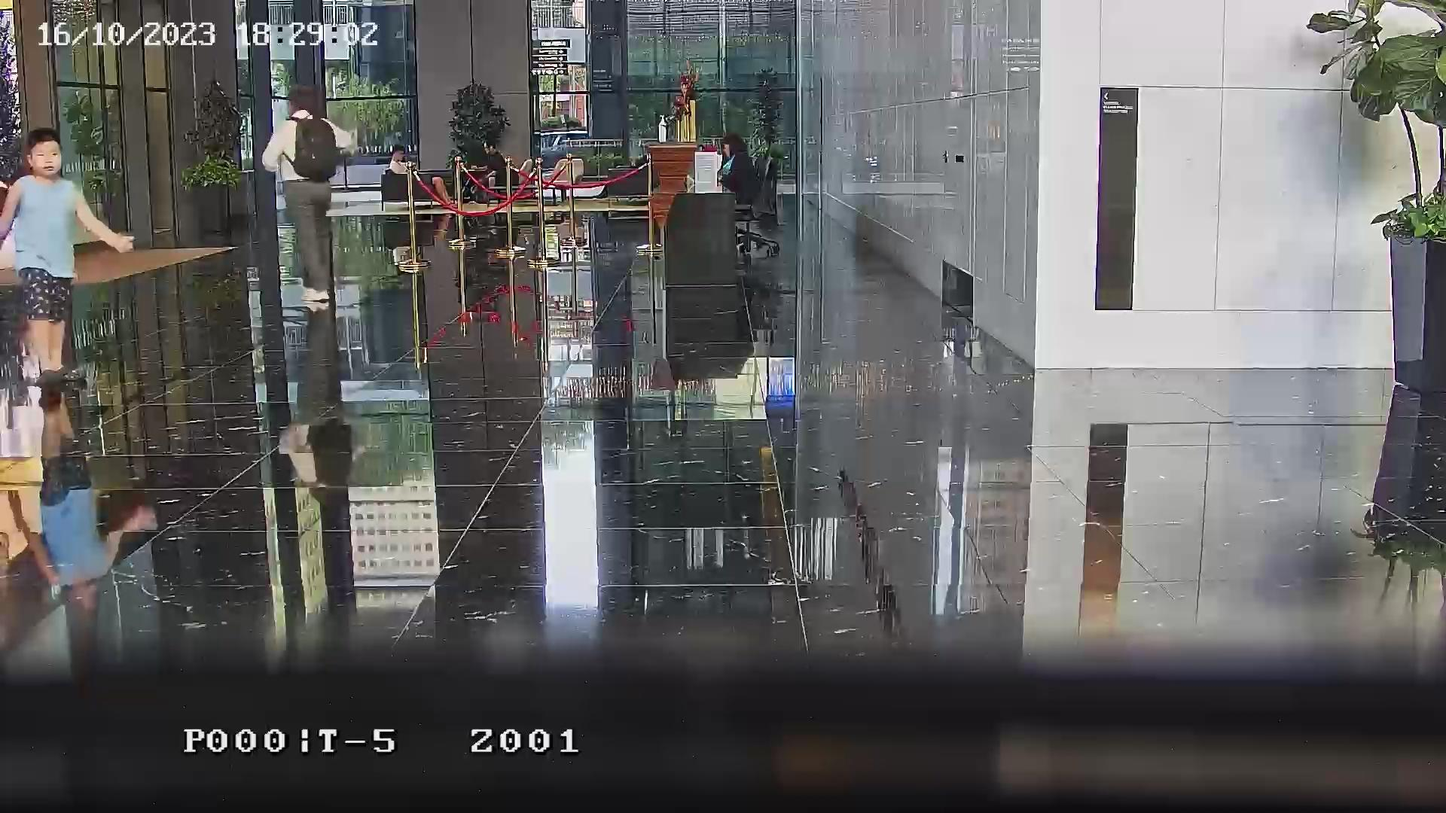person: (0, 129, 136, 463), (261, 84, 348, 301), (390, 144, 457, 209), (717, 133, 759, 207), (472, 140, 513, 186)
